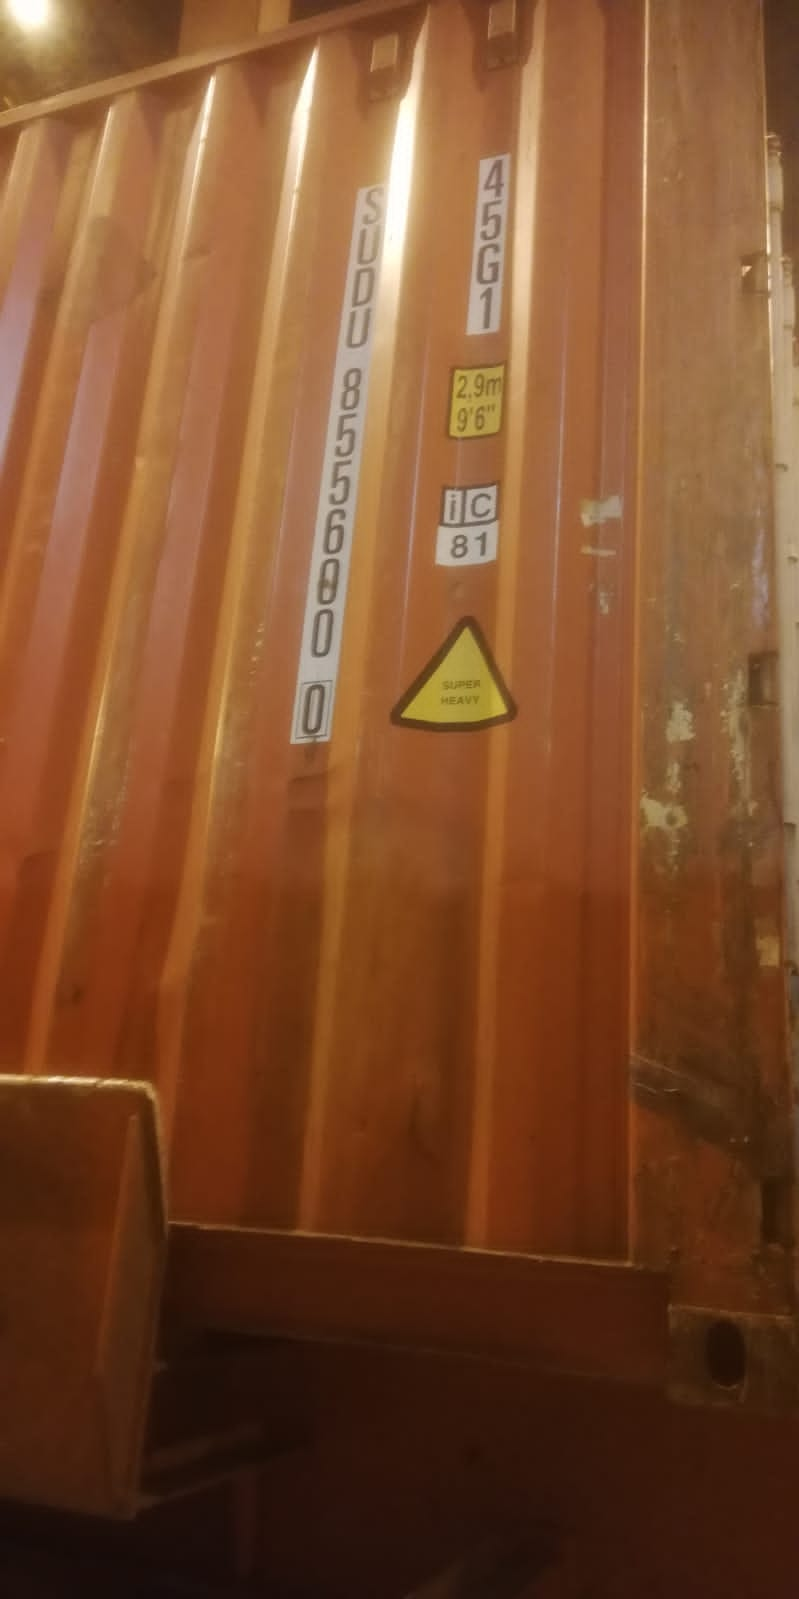cut: (708, 633, 794, 753)
